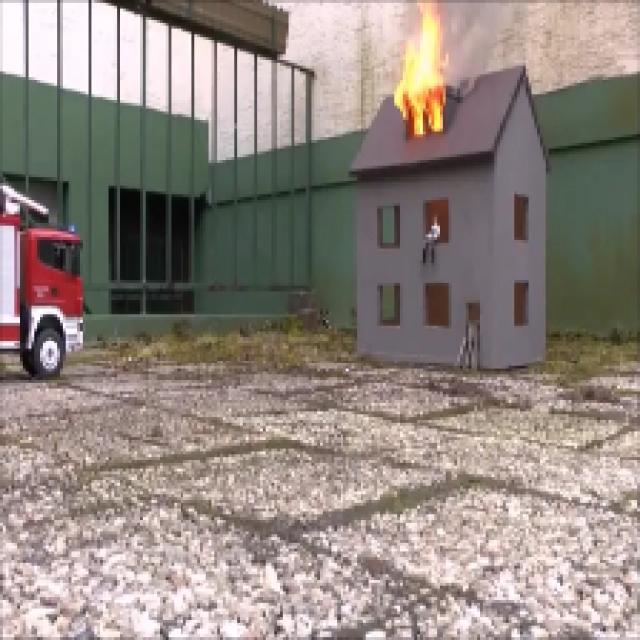fire: (396, 17, 446, 132)
